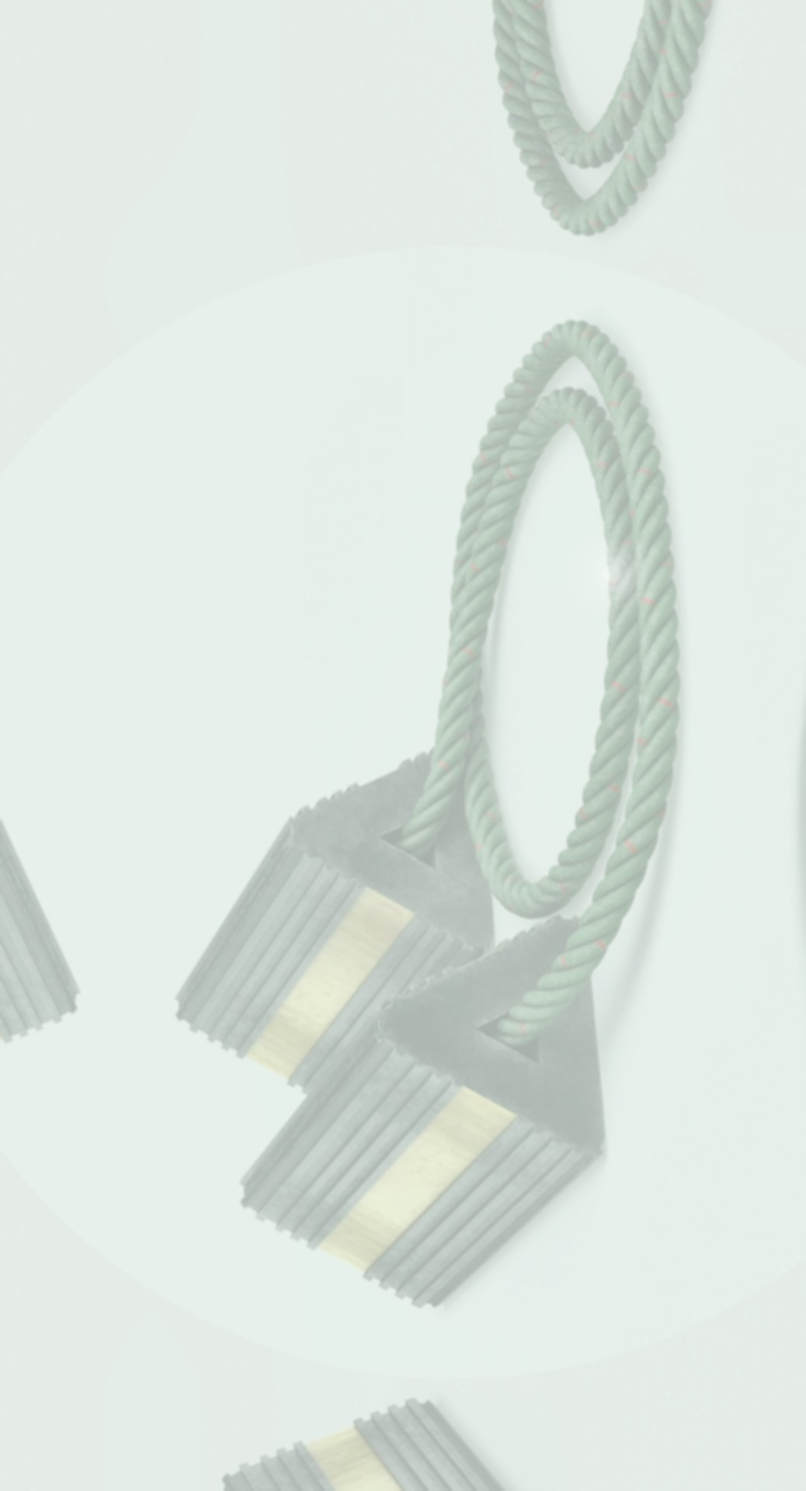chock: (225, 894, 621, 1322), (169, 718, 511, 1108)
